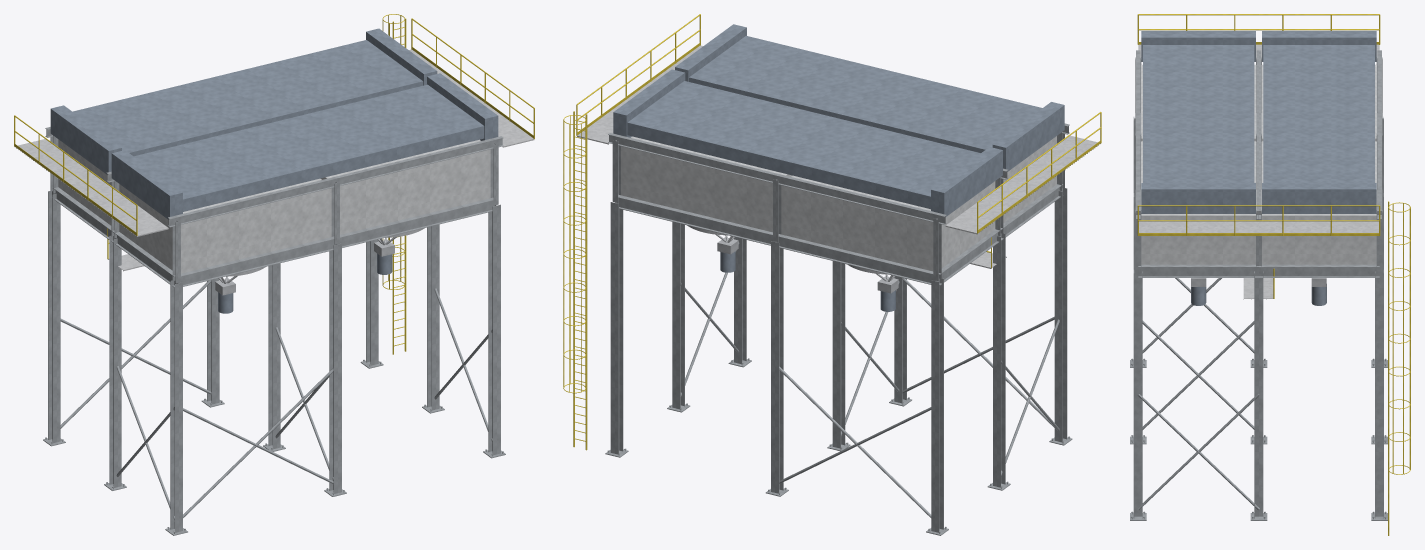
The model's file is air-cooled-exchanger-structures.glb.
3 views of the same model, side by side, from view 1: azimuth 30°, elevation 25°; view 2: azimuth 150°, elevation 25°; view 3: azimuth 270°, elevation 25° (orthographic). The views are drawn at different scales.
Visible parts, largest first — view 1: TubeBundles&Fans(context), Columns&Bracing, Plenums, BundleSupportBeams, Header&MaintenanceWalkways, Ladders&Handrails, FanRings&DriveSupports; view 2: TubeBundles&Fans(context), Columns&Bracing, Plenums, BundleSupportBeams, Ladders&Handrails, Header&MaintenanceWalkways, FanRings&DriveSupports; view 3: TubeBundles&Fans(context), Columns&Bracing, Plenums, BundleSupportBeams, Ladders&Handrails, Header&MaintenanceWalkways.
Boxes of the visible parts, x1,y1,x2,y2 form: TubeBundles&Fans(context): [50, 28, 498, 313]; Columns&Bracing: [43, 191, 505, 535]; Plenums: [58, 139, 490, 273]; BundleSupportBeams: [45, 127, 503, 287]; Header&MaintenanceWalkways: [15, 49, 534, 271]; Ladders&Handrails: [14, 14, 534, 354]; FanRings&DriveSupports: [215, 228, 424, 295]; TubeBundles&Fans(context): [613, 24, 1064, 311]; Columns&Bracing: [605, 188, 1072, 535]; Plenums: [621, 136, 1056, 271]; BundleSupportBeams: [608, 123, 1069, 285]; Ladders&Handrails: [563, 14, 1101, 450]; Header&MaintenanceWalkways: [577, 45, 1100, 268]; FanRings&DriveSupports: [687, 225, 898, 293]; TubeBundles&Fans(context): [1141, 31, 1376, 305]; Columns&Bracing: [1130, 117, 1387, 520]; Plenums: [1141, 64, 1376, 264]; BundleSupportBeams: [1135, 50, 1382, 277]; Ladders&Handrails: [1137, 14, 1410, 535]; Header&MaintenanceWalkways: [1138, 44, 1379, 299].
Size of the model in its own units: 15.09 by 12.13 by 9.31.
Materials: 6 (6 with a texture image).
